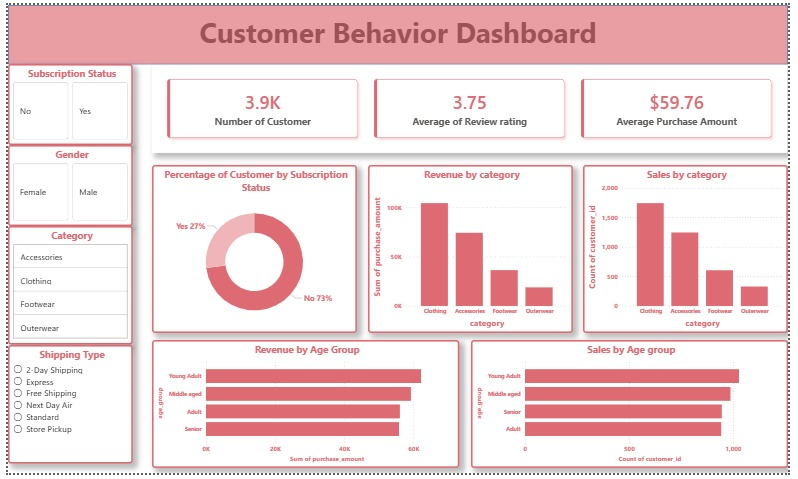

Layout of this report page (visuals, bound fields, positions):
{"tool":"powerbi","page":{"name":"Page 1","canvas":[1500,900],"ordinal":0},"visuals":[{"type":"cardVisual","fields":{"Data":["public customer.Number of Customer","public customer.Average of Review rating","public customer.Average Purchase Amount"]},"box":[277.6,114.2,1222.4,171.3],"z":0},{"type":"textbox","box":[0,9.8,1500,104.3],"z":1000},{"type":"shape","box":[0,0,1500,113.5],"z":2000},{"type":"donutChart","title":"Percentage of Customer by Subscription Status","fields":{"Category":["public customer.subscription_status"],"Y":["CountNonNull(public customer.customer_id)"]},"box":[277.6,307.1,393.7,322.8],"z":3000},{"type":"clusteredColumnChart","title":"Revenue by category","fields":{"Category":["public customer.category"],"Y":["Sum(public customer.purchase_amount)"]},"box":[692.9,307.1,393.7,322.8],"z":4000},{"type":"clusteredColumnChart","title":"Sales by category","fields":{"Category":["public customer.category"],"Y":["CountNonNull(public customer.customer_id)"]},"box":[1106.3,307.1,393.7,322.8],"z":5000},{"type":"advancedSlicerVisual","title":"Subscription Status","fields":{"Values":["public customer.subscription_status"]},"box":[0,114.2,240.2,155.5],"z":6000},{"type":"advancedSlicerVisual","title":"Gender","fields":{"Values":["public customer.gender"]},"box":[0,269.7,240.2,155.5],"z":7000},{"type":"advancedSlicerVisual","title":"Category","fields":{"Values":["public customer.category"]},"box":[0,425.2,240.2,228.3],"z":8000},{"type":"listSlicer","title":"Shipping Type","fields":{"Values":["public customer.shipping_type"]},"box":[0,653.5,240.2,228.3],"z":9000},{"type":"clusteredBarChart","title":"Revenue by Age Group","fields":{"Category":["public customer.age_group"],"Y":["Sum(public customer.purchase_amount)"]},"box":[277.6,643.7,590.6,246.1],"z":10000},{"type":"clusteredBarChart","title":"Sales by Age group","fields":{"Category":["public customer.age_group"],"Y":["CountNonNull(public customer.customer_id)"]},"box":[889.8,643.7,610.2,246.1],"z":11000}]}

Visuals, with their boxes in screenshot pixels (x1, y1, x2, y2), scaled from the page's 1500x900 canvas onto the 798x479 screenshot:
cardVisual - public customer.Number of Customer x public customer.Average of Review rating: (left=148, top=61, right=797, bottom=152)
textbox: (left=0, top=5, right=797, bottom=61)
shape: (left=0, top=0, right=797, bottom=60)
"Percentage of Customer by Subscription Status" donutChart: (left=148, top=163, right=357, bottom=335)
"Revenue by category" clusteredColumnChart: (left=369, top=163, right=578, bottom=335)
"Sales by category" clusteredColumnChart: (left=589, top=163, right=797, bottom=335)
"Subscription Status" advancedSlicerVisual: (left=0, top=61, right=128, bottom=144)
"Gender" advancedSlicerVisual: (left=0, top=144, right=128, bottom=226)
"Category" advancedSlicerVisual: (left=0, top=226, right=128, bottom=348)
"Shipping Type" listSlicer: (left=0, top=348, right=128, bottom=469)
"Revenue by Age Group" clusteredBarChart: (left=148, top=343, right=462, bottom=474)
"Sales by Age group" clusteredBarChart: (left=473, top=343, right=797, bottom=474)
